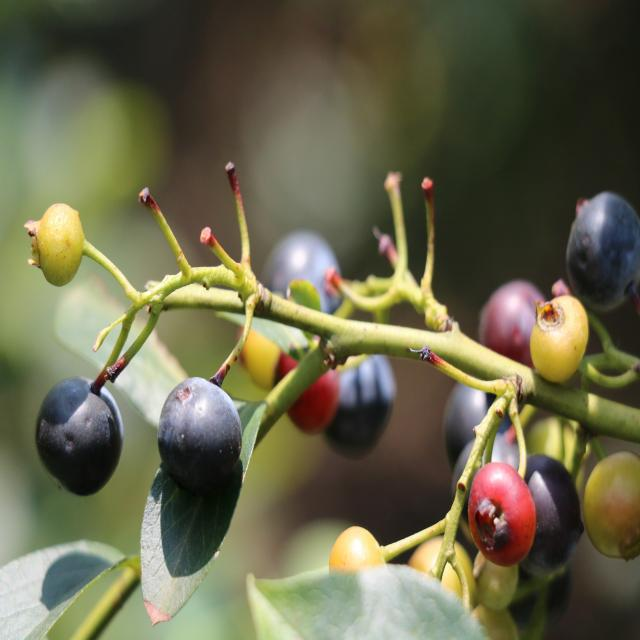blueberry: (154, 365, 248, 506), (264, 219, 359, 339), (34, 375, 125, 495), (312, 335, 394, 467), (562, 183, 640, 312), (520, 440, 587, 584), (441, 357, 516, 469)
blueberry-halfripe: (468, 461, 534, 568), (480, 280, 548, 373), (273, 341, 339, 432)
blueberry-unripe: (584, 451, 640, 561), (531, 296, 589, 388), (31, 200, 86, 290), (329, 526, 387, 592)
